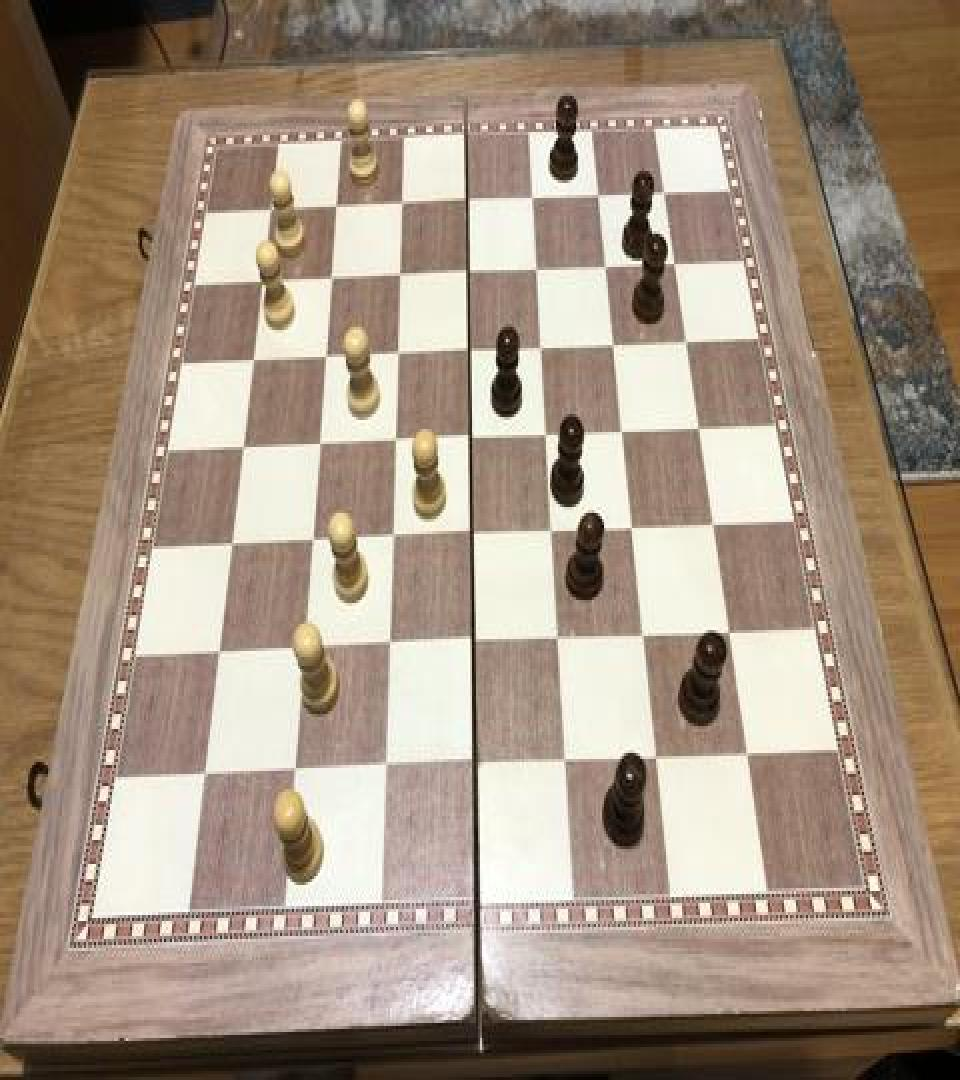xcorner: (381, 520, 405, 557), (632, 616, 656, 653), (735, 733, 759, 770), (554, 742, 578, 779), (284, 754, 308, 791), (652, 171, 676, 207), (586, 174, 610, 210), (521, 178, 545, 214), (455, 182, 479, 218), (390, 184, 414, 220), (260, 190, 284, 226), (662, 243, 686, 279), (594, 246, 618, 282), (525, 249, 549, 285), (457, 254, 481, 290), (388, 256, 412, 292), (251, 262, 275, 298), (674, 321, 698, 357), (602, 324, 626, 360), (458, 332, 482, 368), (386, 336, 410, 372), (314, 339, 338, 375), (242, 342, 266, 378), (687, 408, 711, 444), (611, 411, 635, 447), (535, 416, 559, 452), (459, 418, 483, 454), (383, 423, 407, 459), (308, 426, 332, 462), (701, 504, 725, 540), (621, 508, 645, 544), (541, 512, 565, 548), (460, 516, 484, 552), (301, 524, 325, 560), (221, 528, 245, 564), (717, 612, 741, 648), (547, 621, 571, 657), (462, 624, 486, 660), (377, 628, 401, 664), (293, 633, 317, 669), (208, 636, 232, 672), (644, 738, 668, 774), (464, 747, 488, 783), (374, 752, 398, 788), (194, 759, 218, 795), (325, 188, 349, 223), (320, 260, 344, 295), (530, 329, 554, 364), (232, 431, 256, 466)
